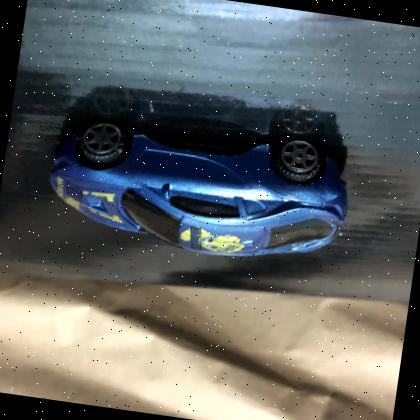Car: (49, 119, 349, 256)
